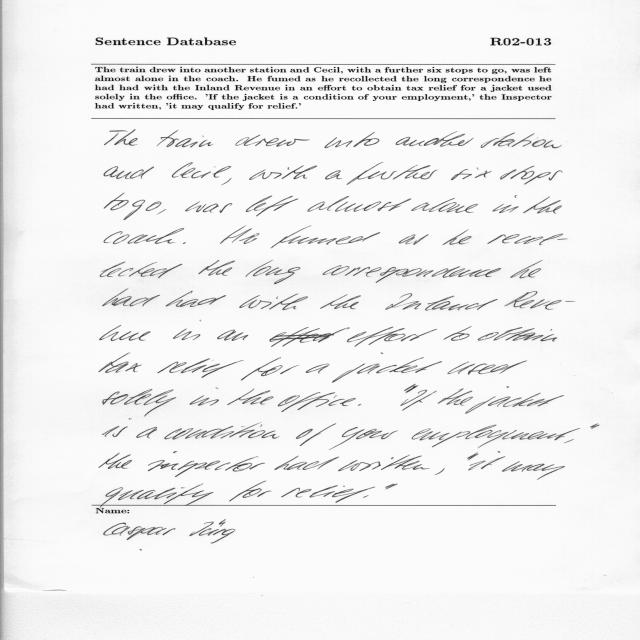word: (92, 484, 398, 506), (411, 425, 580, 448), (332, 353, 442, 383), (323, 265, 501, 283), (148, 451, 265, 477), (465, 386, 564, 414), (271, 226, 380, 248), (346, 162, 438, 185), (165, 422, 280, 440), (103, 389, 176, 417), (385, 293, 498, 311), (347, 327, 437, 347), (157, 358, 244, 378), (281, 485, 375, 503), (307, 196, 411, 212), (269, 327, 350, 347), (329, 427, 398, 450), (278, 392, 356, 412), (338, 455, 430, 471), (241, 357, 300, 381), (504, 291, 575, 310), (100, 262, 183, 278), (246, 261, 301, 285), (481, 133, 562, 149), (104, 228, 184, 244), (396, 131, 474, 147), (502, 461, 565, 480), (500, 166, 562, 185), (448, 361, 528, 375), (478, 327, 557, 341), (239, 294, 308, 310), (246, 196, 298, 217), (249, 165, 317, 180), (411, 198, 478, 213), (157, 130, 214, 147), (103, 289, 160, 306), (166, 291, 226, 307), (172, 163, 231, 179), (296, 423, 336, 446), (275, 456, 340, 470), (235, 135, 310, 147), (173, 329, 248, 341), (487, 234, 568, 245), (325, 132, 380, 148), (229, 481, 272, 501), (99, 353, 141, 373), (100, 325, 151, 341), (124, 200, 162, 220), (401, 390, 437, 411), (228, 389, 274, 405), (469, 452, 506, 471), (220, 226, 259, 244), (523, 197, 562, 214), (104, 166, 154, 179), (320, 295, 361, 310), (438, 389, 473, 406), (198, 260, 235, 276), (189, 387, 219, 406), (185, 201, 232, 213), (451, 168, 492, 181), (105, 130, 138, 146), (99, 453, 132, 469), (510, 261, 541, 278), (103, 419, 132, 437), (492, 196, 519, 214), (443, 229, 471, 245), (104, 193, 129, 210), (444, 326, 472, 341), (399, 234, 429, 245), (306, 364, 330, 374), (136, 427, 157, 438), (325, 171, 342, 180), (404, 385, 419, 394), (468, 453, 479, 461), (386, 484, 398, 490), (222, 178, 232, 185), (435, 468, 445, 475), (590, 423, 600, 429), (157, 209, 166, 214), (564, 439, 574, 443), (363, 495, 368, 498), (183, 242, 186, 244), (358, 404, 361, 406)
